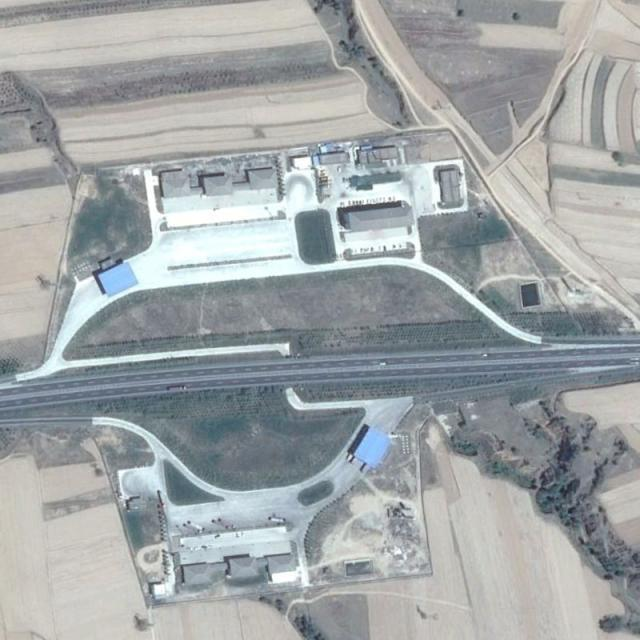vehicle: (184, 524, 202, 534), (219, 518, 236, 528), (213, 521, 230, 529), (189, 522, 204, 530), (167, 386, 186, 391), (270, 518, 286, 522)
